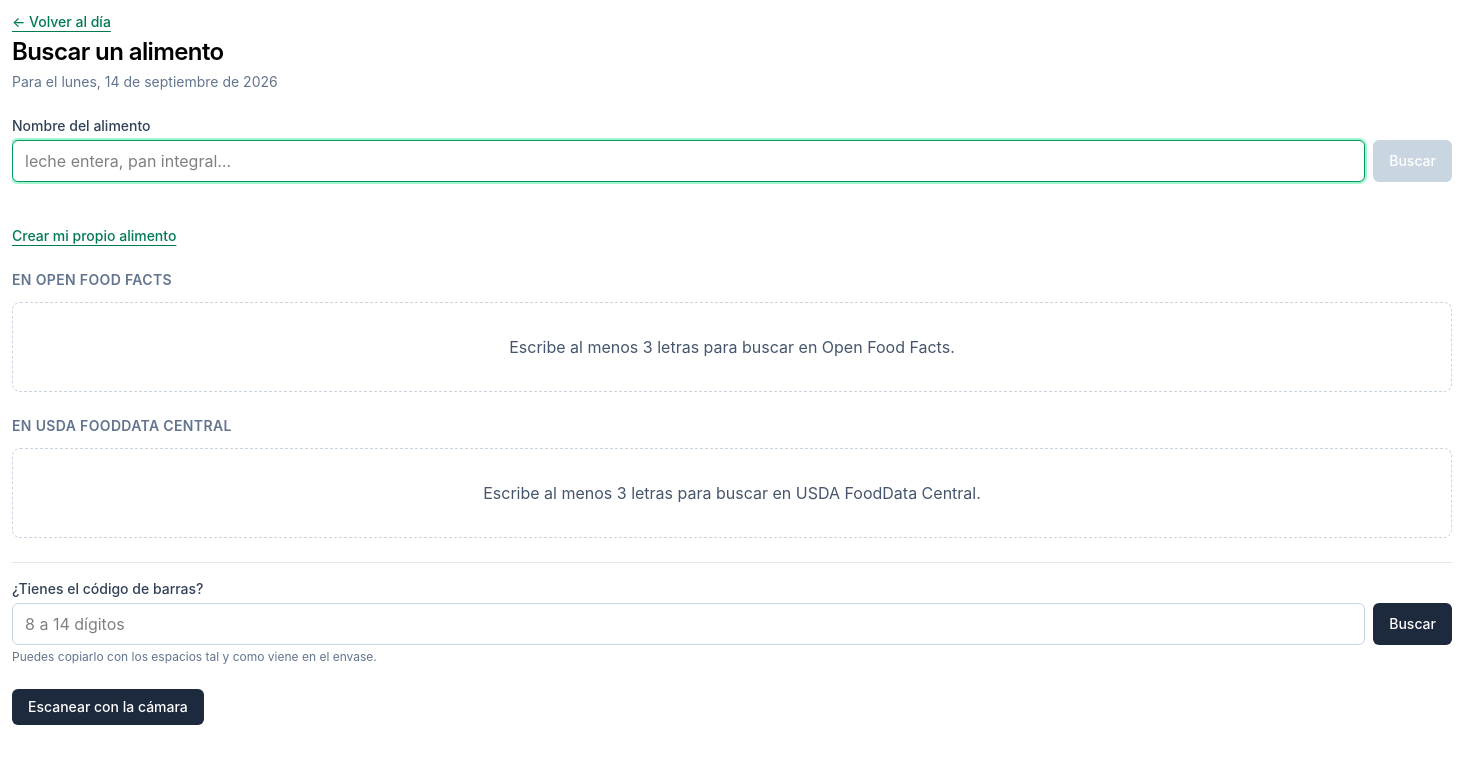
Scenario: SearchPage › lo que ya está en el catálogo se ve mientras se teclea, sin red
Type "l" into the search field labelled "Nombre del alimento".
click(689, 161); type("l")  # box x1=12 y1=140 x2=1365 y2=182
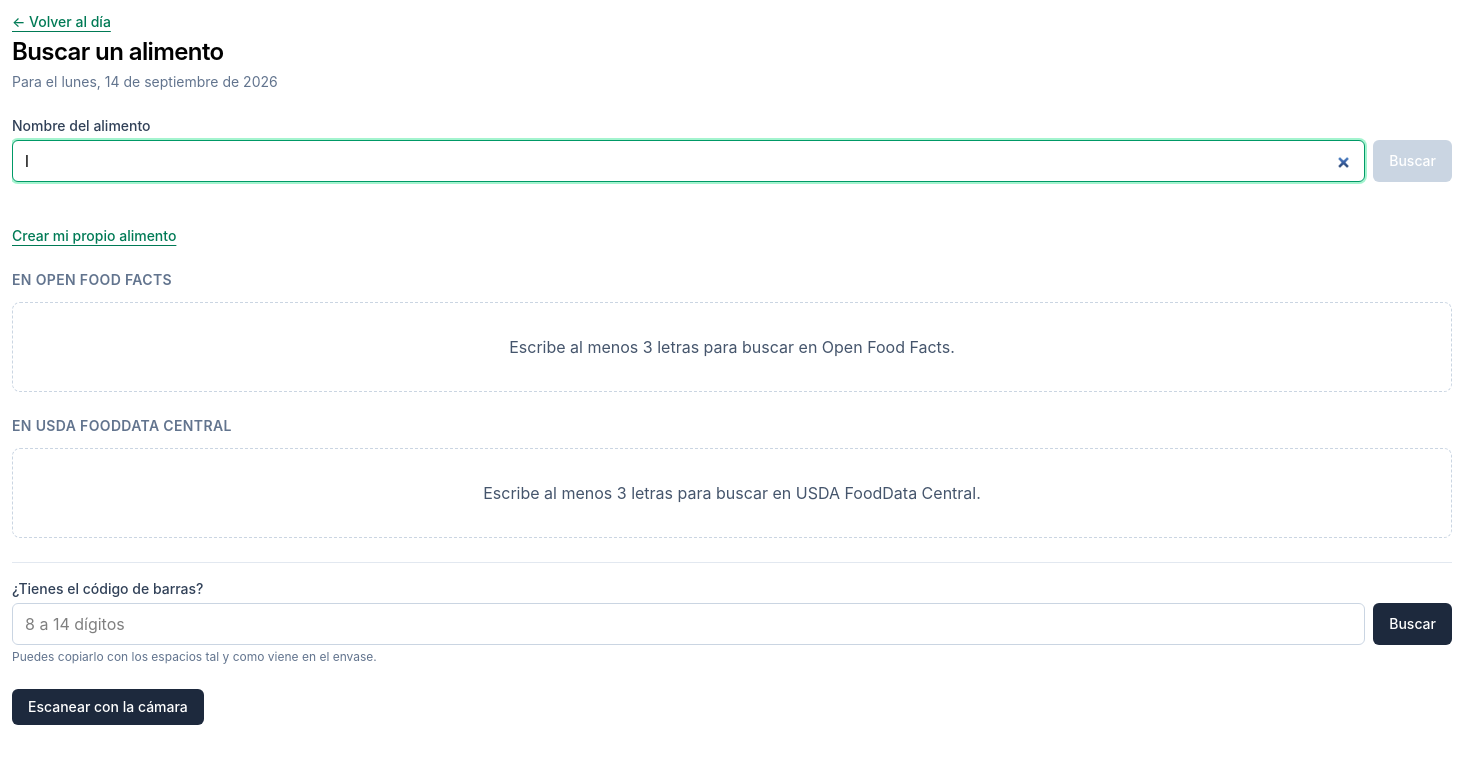
Replace the text in the search field labelled "Nombre del alimento" with "le" at x=689, y=161, box x1=12 y1=140 x2=1365 y2=182
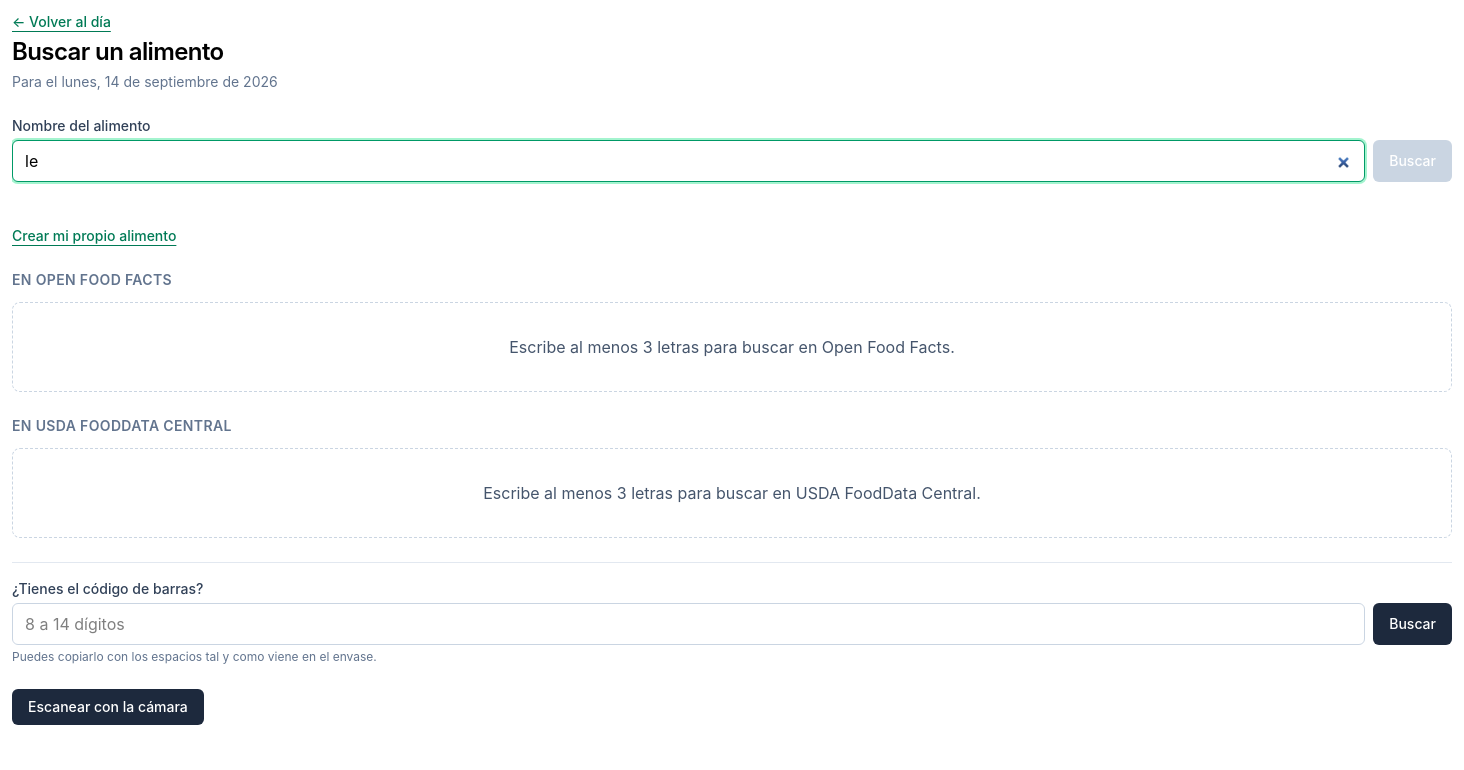
Replace the text in the search field labelled "Nombre del alimento" with "lec" at x=689, y=161, box x1=12 y1=140 x2=1365 y2=182
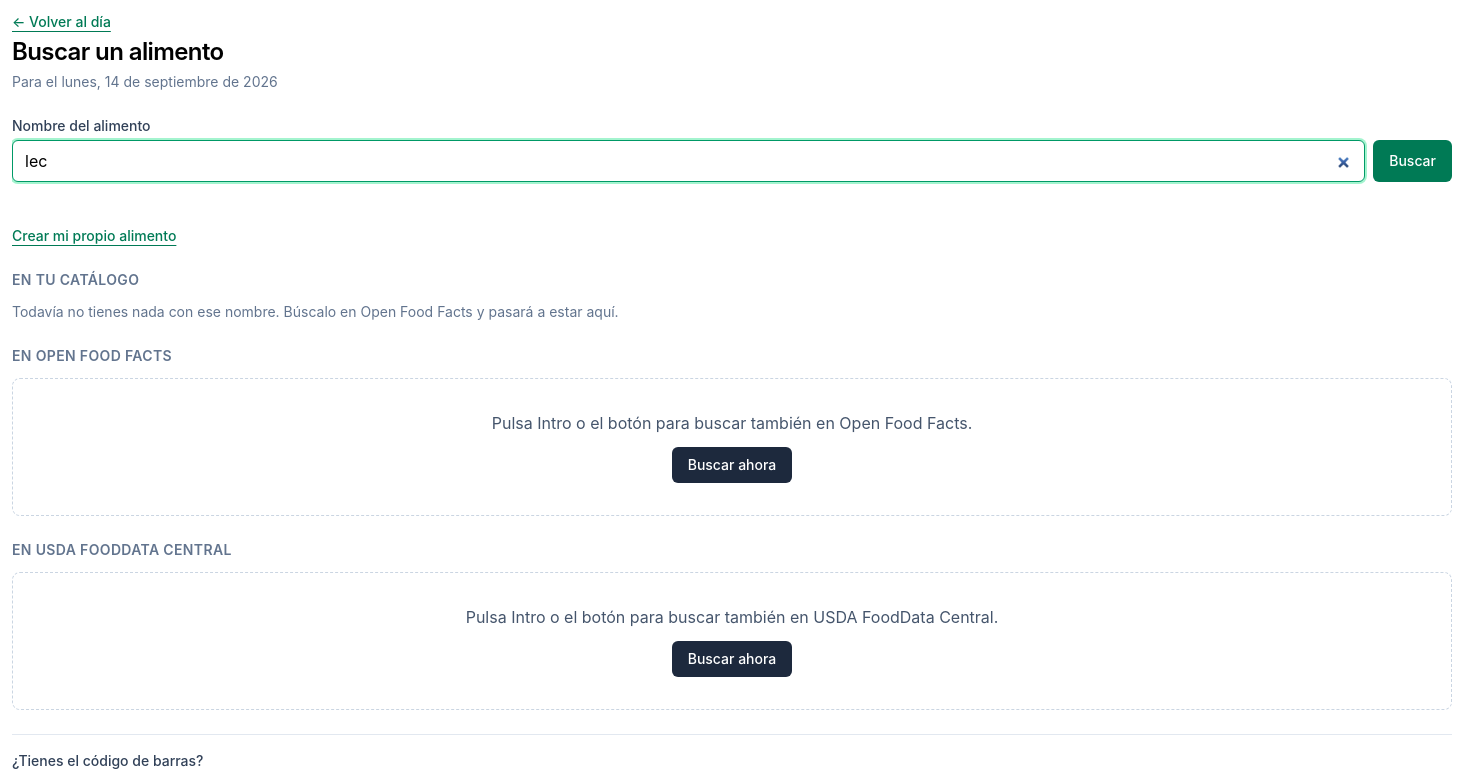
Replace the text in the search field labelled "Nombre del alimento" with "lech" at x=689, y=161, box x1=12 y1=140 x2=1365 y2=182
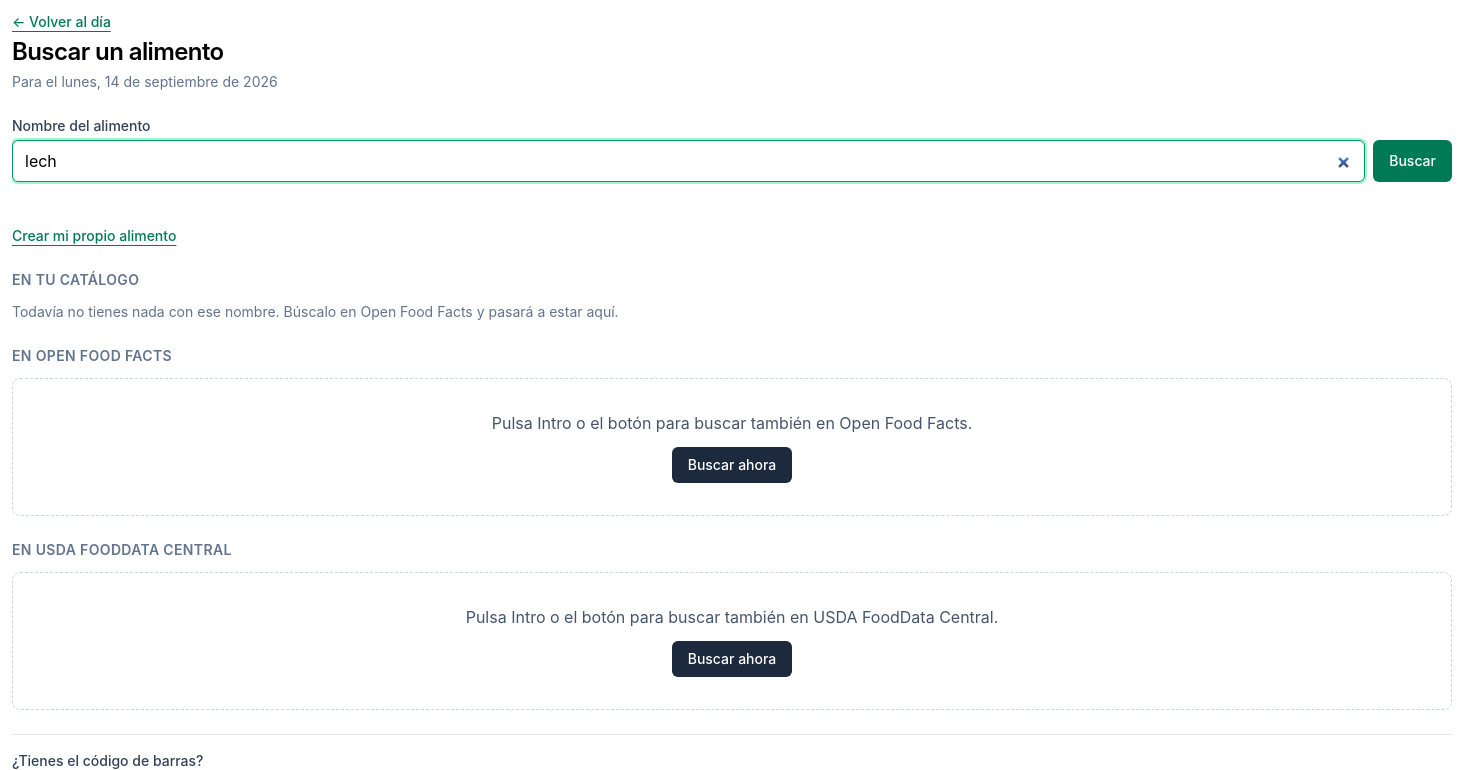
Replace the text in the search field labelled "Nombre del alimento" with "leche" at x=689, y=161, box x1=12 y1=140 x2=1365 y2=182
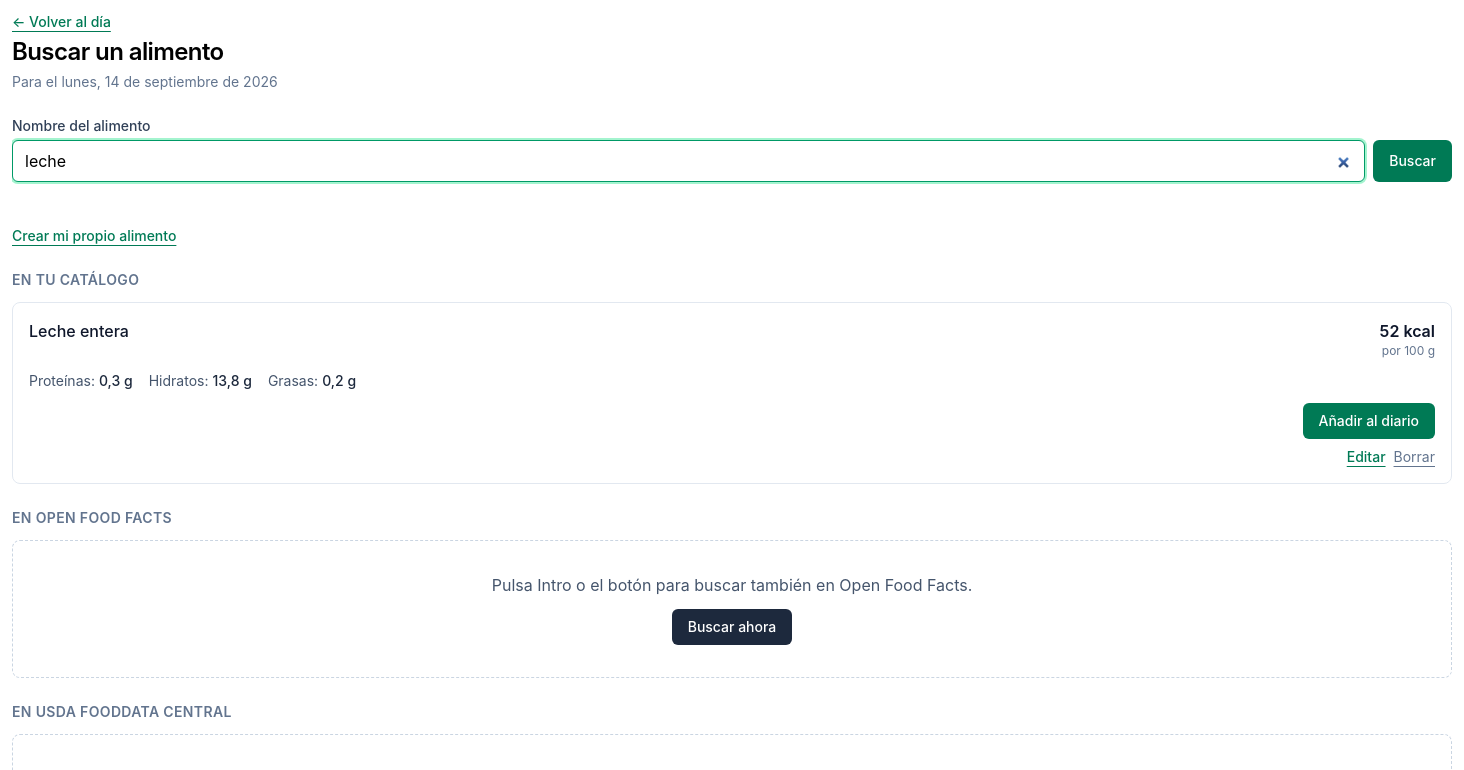
Expected: the text "Leche entera" is shown, x1=29 y1=319 x2=129 y2=343
